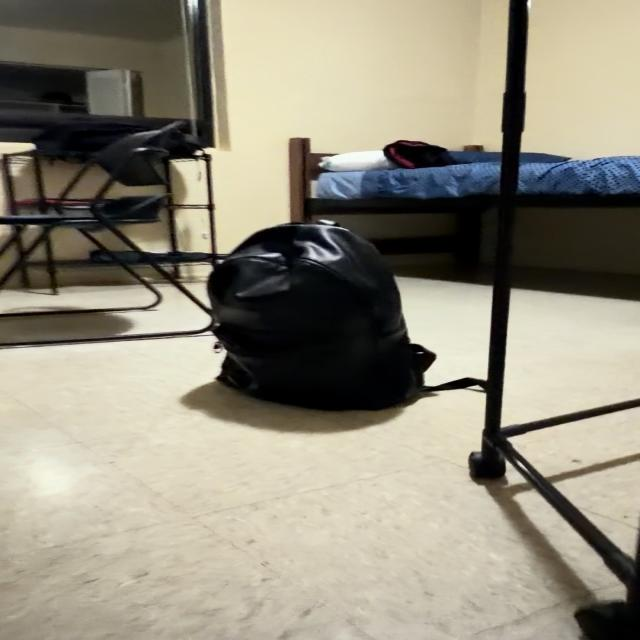backpack: (208, 222, 436, 410), (428, 378, 480, 391)
